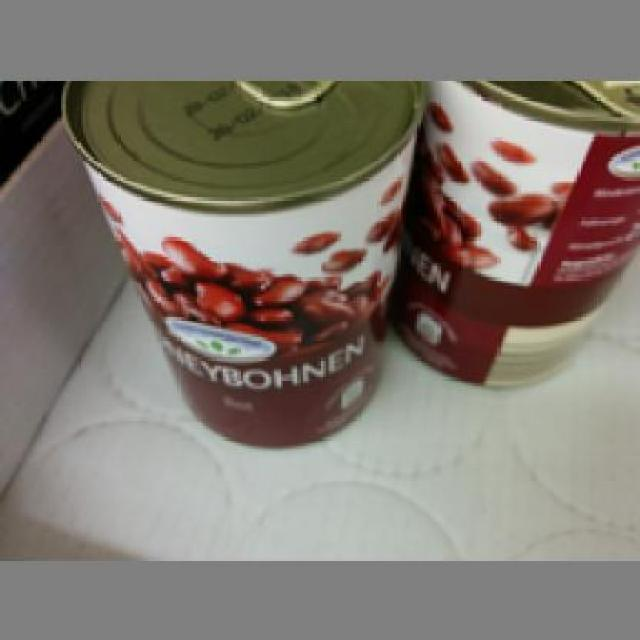Beans: (57, 73, 410, 450), (414, 71, 637, 398)
